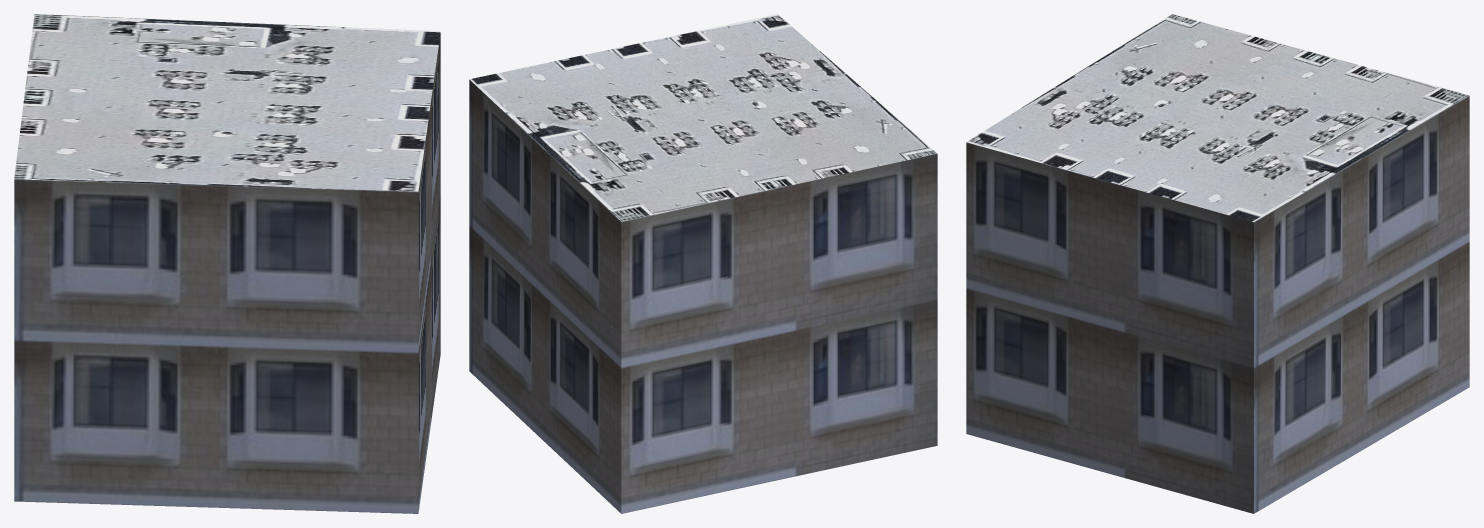
The model's file is ResTex__4025.fbx.
The picture shows the model from 3 angles, left to right: view 1: azimuth 30°, elevation 25°; view 2: azimuth 150°, elevation 25°; view 3: azimuth 270°, elevation 25°; orthographic projection. The views are drawn at different scales.
Parts seen in each view (by area): view 1: CityEngineMaterial_3_m, CityEngineMaterial_m; view 2: CityEngineMaterial_3_m, CityEngineMaterial_m; view 3: CityEngineMaterial_3_m, CityEngineMaterial_m.
Part boxes in pixels (left/top/right/bottom): CityEngineMaterial_3_m: left=14, top=33, right=440, bottom=513; CityEngineMaterial_m: left=14, top=14, right=440, bottom=191; CityEngineMaterial_3_m: left=469, top=79, right=937, bottom=513; CityEngineMaterial_m: left=470, top=14, right=937, bottom=221; CityEngineMaterial_3_m: left=966, top=96, right=1469, bottom=513; CityEngineMaterial_m: left=966, top=14, right=1469, bottom=222.
Bounding box in the file's own units: 9.19 × 6 × 9.39.
Materials: 2 (2 with a texture image).
